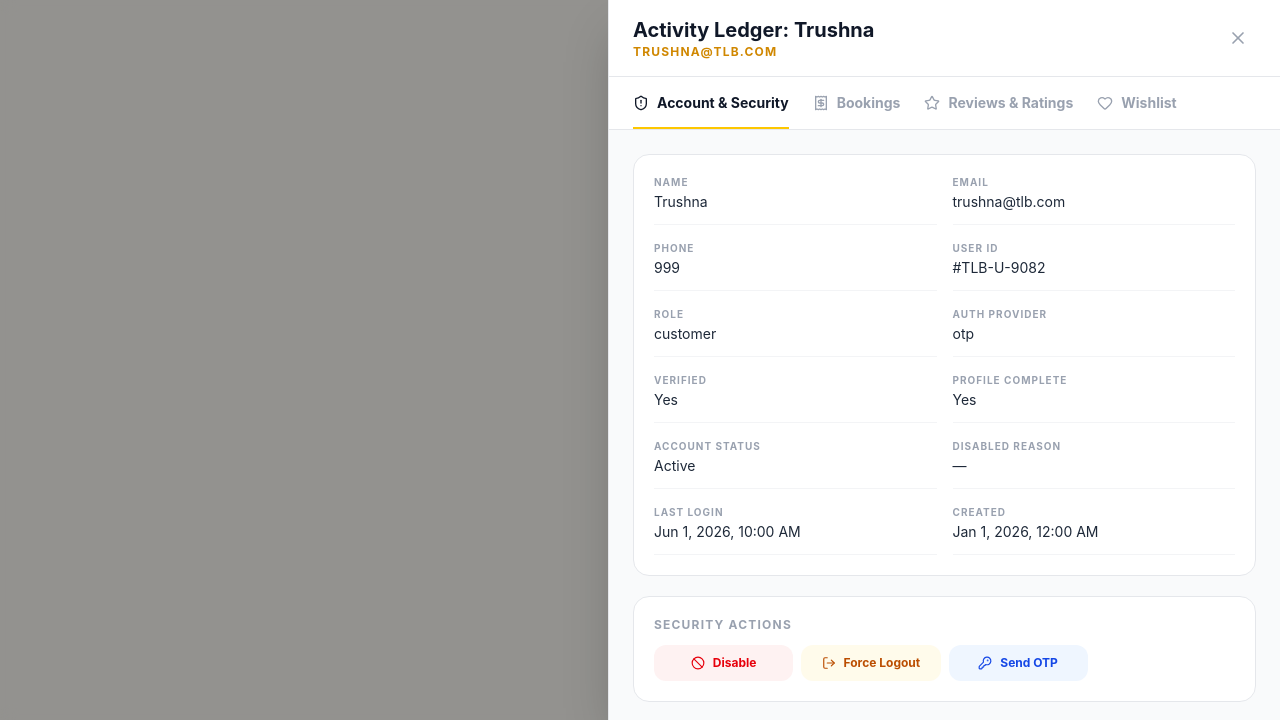
Test case: UserHistorySlideOut › loads bookings from the API when the Bookings tab is opened
The image size is (1280, 720).
Click the button "Bookings": point(857, 103) [813, 77, 900, 129]
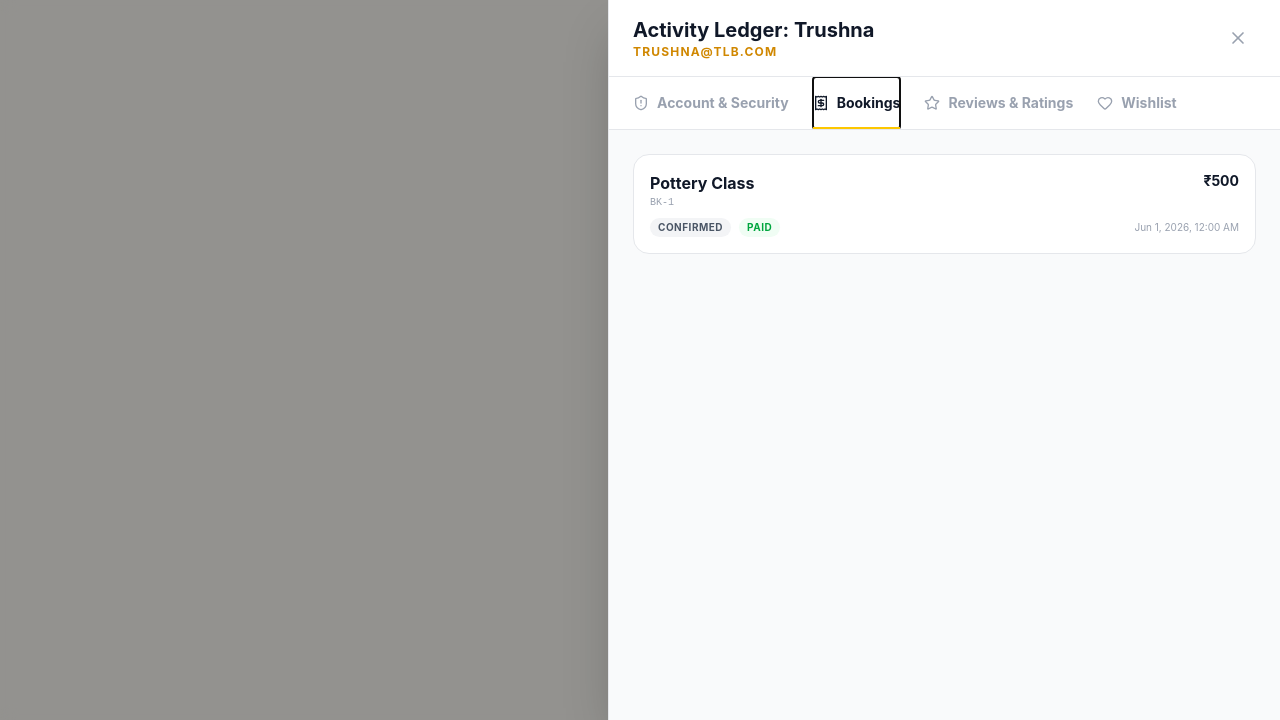
Expected: the text "Pottery Class" is shown, [650, 171, 754, 195]
